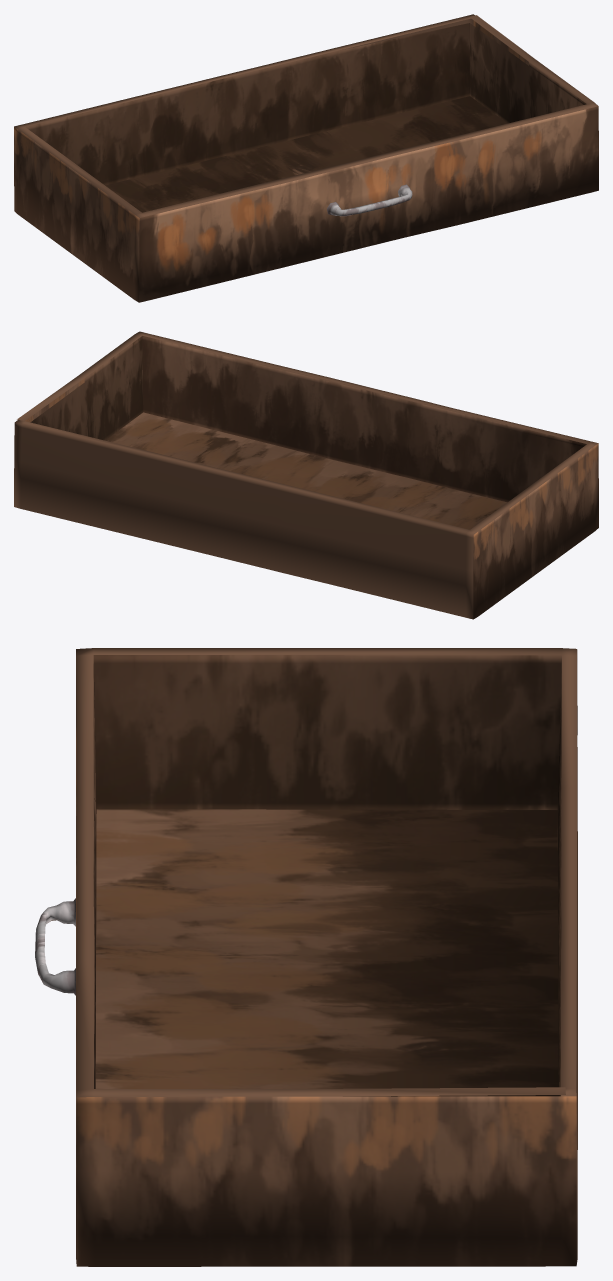
The model's file is Actual_drawer.fbx.
The picture shows the model from 3 angles, top to bottom: view 1: azimuth 30°, elevation 25°; view 2: azimuth 150°, elevation 25°; view 3: azimuth 270°, elevation 25°; orthographic projection. The views are drawn at different scales.
Visible parts, largest first — view 1: Tumba; view 2: Tumba; view 3: Tumba.
Part boxes in pixels (x1,y1,x2,y2): Tumba: [14, 14, 598, 302]; Tumba: [14, 331, 598, 619]; Tumba: [35, 648, 577, 1266].
Size of the model in its own units: 162 by 29.05 by 82.52.
Materials: 1 (1 with a texture image).
